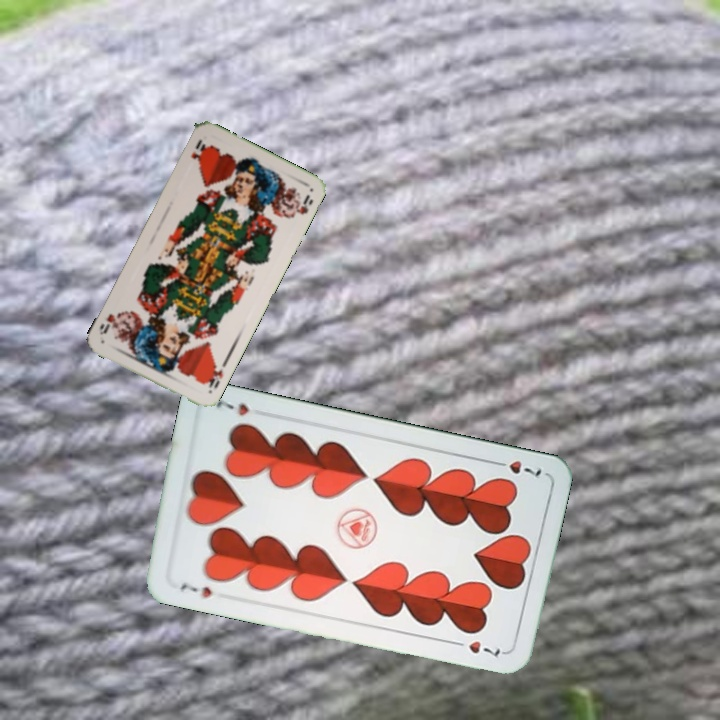H7: (488, 456, 544, 480), (176, 578, 215, 601)
HO: (200, 357, 229, 392), (187, 135, 208, 164)
